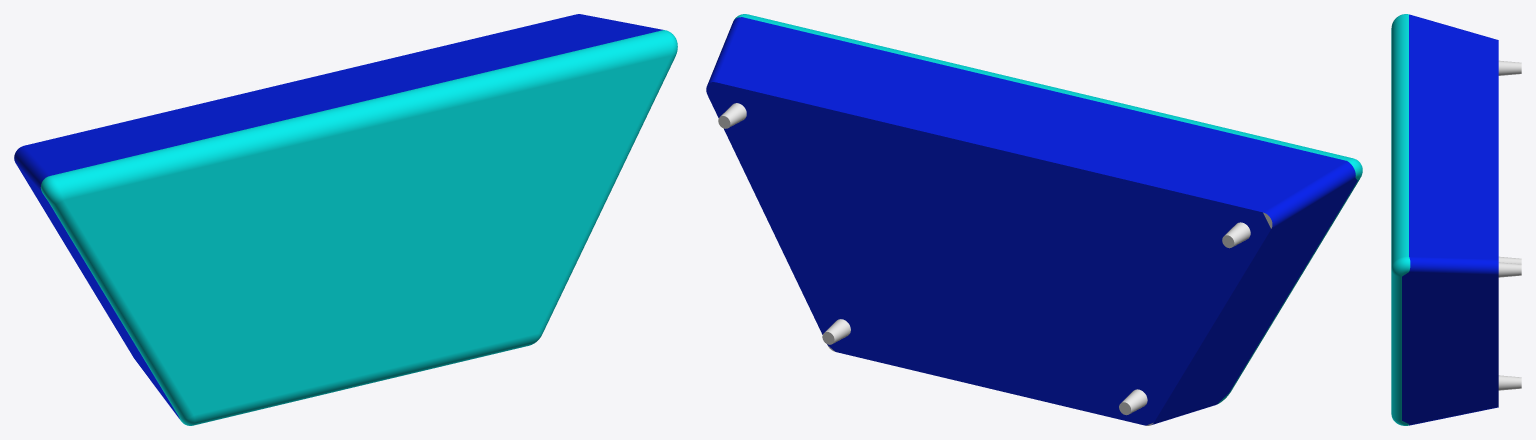
The model's file is blue_chair_colored.fbx.
3 views of the same model, side by side, from view 1: azimuth 30°, elevation 25°; view 2: azimuth 150°, elevation 25°; view 3: azimuth 270°, elevation 25° (orthographic). The views are drawn at different scales.
Parts seen in each view (by area): view 1: Body4; view 2: Body4; view 3: Body4.
Boxes of the visible parts, x1,y1,x2,y2 form: Body4: (14, 14, 677, 425); Body4: (706, 14, 1362, 425); Body4: (1391, 14, 1521, 425).
Bounding box in the file's own units: 193 × 82.74 × 43.18.
